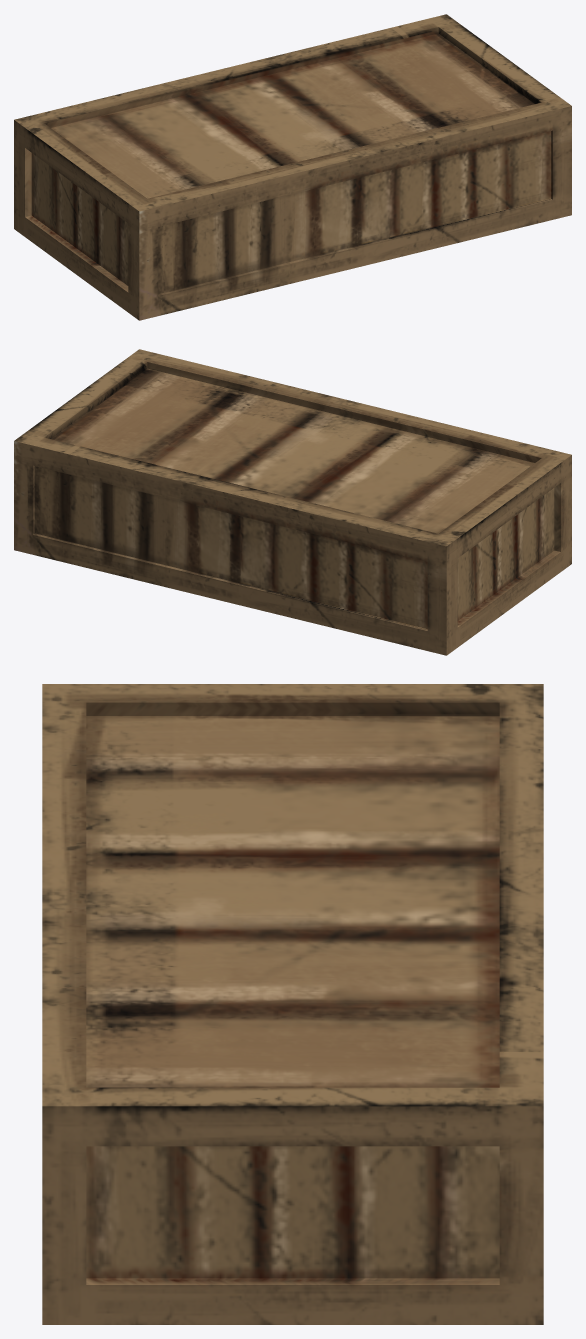
File: SmallBox.fbx
3 views of the same model, one above another, from view 1: azimuth 30°, elevation 25°; view 2: azimuth 150°, elevation 25°; view 3: azimuth 270°, elevation 25° (orthographic). The views are drawn at different scales.
Parts seen in each view (by area): view 1: Pillar_Boxes_StudyTable_SmallBox; view 2: Pillar_Boxes_StudyTable_SmallBox; view 3: Pillar_Boxes_StudyTable_SmallBox.
Part boxes in pixels (x1,y1,x2,y2): Pillar_Boxes_StudyTable_SmallBox: (14, 14, 571, 320); Pillar_Boxes_StudyTable_SmallBox: (14, 349, 571, 655); Pillar_Boxes_StudyTable_SmallBox: (42, 684, 543, 1324).
Size of the model in its own units: 0.0283 by 0.0142 by 0.00682.
